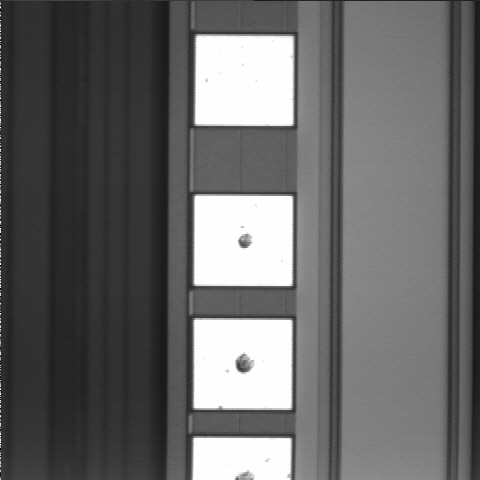pad: (194, 319, 292, 410), (194, 196, 293, 286), (195, 36, 293, 126)
